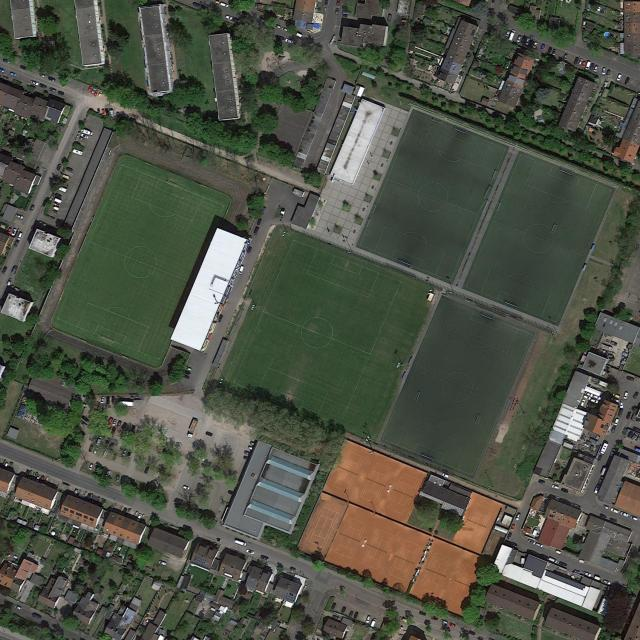large-vehicle: (187, 418, 199, 438), (600, 442, 609, 455), (235, 539, 247, 547)
small-vehicle: (80, 128, 93, 136), (508, 30, 516, 41), (95, 436, 103, 447), (370, 618, 378, 628), (630, 431, 638, 441), (585, 60, 592, 71), (196, 455, 207, 462), (31, 613, 42, 620), (532, 527, 540, 536), (539, 553, 548, 561), (80, 420, 89, 428), (81, 415, 90, 423), (30, 79, 40, 86), (192, 1, 202, 8), (1, 265, 8, 275), (616, 72, 623, 82), (548, 557, 558, 564), (610, 507, 620, 514), (217, 313, 224, 323), (624, 75, 631, 85), (609, 517, 619, 524), (4, 600, 14, 607), (259, 554, 269, 561), (13, 240, 21, 248), (626, 430, 634, 438), (632, 391, 640, 399), (54, 192, 63, 199), (259, 206, 266, 215), (6, 278, 13, 287), (620, 511, 629, 518), (246, 246, 253, 255), (441, 472, 450, 479), (353, 611, 360, 620), (609, 340, 618, 347), (593, 485, 600, 494), (609, 448, 616, 457), (537, 479, 546, 486), (596, 454, 603, 463), (626, 375, 635, 382), (246, 549, 255, 556), (12, 265, 18, 275), (109, 109, 115, 119), (254, 226, 260, 236), (558, 562, 568, 568), (11, 228, 18, 236), (220, 1, 228, 8), (431, 615, 439, 622), (597, 476, 604, 484), (102, 449, 109, 457), (39, 83, 48, 89), (2, 58, 11, 64), (17, 231, 23, 240), (80, 133, 89, 139), (285, 38, 294, 44), (578, 57, 584, 66), (366, 615, 372, 624), (535, 542, 544, 548), (583, 571, 592, 577), (510, 523, 516, 532), (515, 512, 521, 521), (551, 484, 560, 490), (593, 64, 599, 73), (574, 56, 580, 65), (571, 503, 580, 509), (561, 487, 570, 493), (626, 411, 632, 420), (244, 450, 253, 456), (14, 605, 23, 611), (130, 424, 136, 433), (122, 422, 128, 431), (107, 416, 113, 425), (182, 370, 191, 376), (109, 442, 115, 451), (144, 465, 150, 474), (227, 490, 236, 496), (137, 513, 143, 522), (126, 449, 132, 458), (86, 493, 91, 503), (57, 90, 65, 96), (49, 87, 57, 93), (48, 76, 56, 82), (38, 72, 46, 78), (281, 26, 289, 32), (334, 7, 340, 15), (232, 18, 240, 24), (258, 17, 266, 23), (122, 448, 128, 456), (111, 419, 117, 427), (116, 420, 122, 428), (29, 204, 35, 212), (238, 266, 244, 274), (623, 392, 629, 400), (528, 539, 536, 545), (603, 579, 611, 585), (630, 515, 638, 521), (516, 35, 522, 43), (505, 29, 511, 37), (551, 48, 557, 56), (547, 46, 553, 54), (525, 37, 531, 45), (468, 630, 476, 636), (340, 606, 346, 614), (589, 62, 595, 70), (599, 513, 607, 519), (611, 425, 617, 433), (331, 602, 337, 610), (93, 446, 99, 454), (88, 444, 94, 452), (247, 446, 255, 452), (205, 431, 213, 437), (110, 427, 116, 435), (289, 566, 297, 572), (88, 463, 94, 471), (105, 470, 111, 478), (121, 508, 127, 516), (35, 474, 41, 482), (3, 463, 9, 471), (19, 65, 28, 70), (241, 11, 250, 16), (15, 214, 24, 219), (34, 165, 39, 174), (387, 13, 392, 22), (618, 408, 623, 417), (112, 452, 117, 461), (40, 474, 45, 483), (273, 23, 280, 29), (93, 90, 99, 97), (90, 87, 96, 94), (225, 15, 232, 21), (348, 610, 354, 617), (215, 537, 222, 543), (105, 108, 110, 116), (257, 218, 262, 226), (65, 166, 73, 171), (614, 418, 619, 426), (419, 611, 427, 616), (332, 615, 340, 620), (440, 619, 448, 624), (250, 441, 258, 446), (182, 374, 190, 379), (159, 561, 167, 566), (24, 469, 29, 477), (105, 439, 109, 448), (96, 108, 101, 115), (10, 72, 17, 77), (87, 86, 92, 93), (98, 90, 103, 97), (100, 397, 105, 404), (507, 532, 512, 539), (581, 61, 586, 68), (563, 53, 568, 60), (540, 43, 545, 50), (533, 41, 538, 48), (449, 622, 456, 627), (606, 69, 611, 76), (184, 366, 191, 371), (183, 486, 190, 491), (73, 490, 78, 497), (106, 396, 110, 404), (620, 400, 624, 408), (602, 67, 606, 75), (243, 456, 251, 460), (603, 505, 609, 510), (116, 475, 120, 482), (101, 108, 105, 115), (111, 396, 115, 403), (574, 570, 580, 574)
